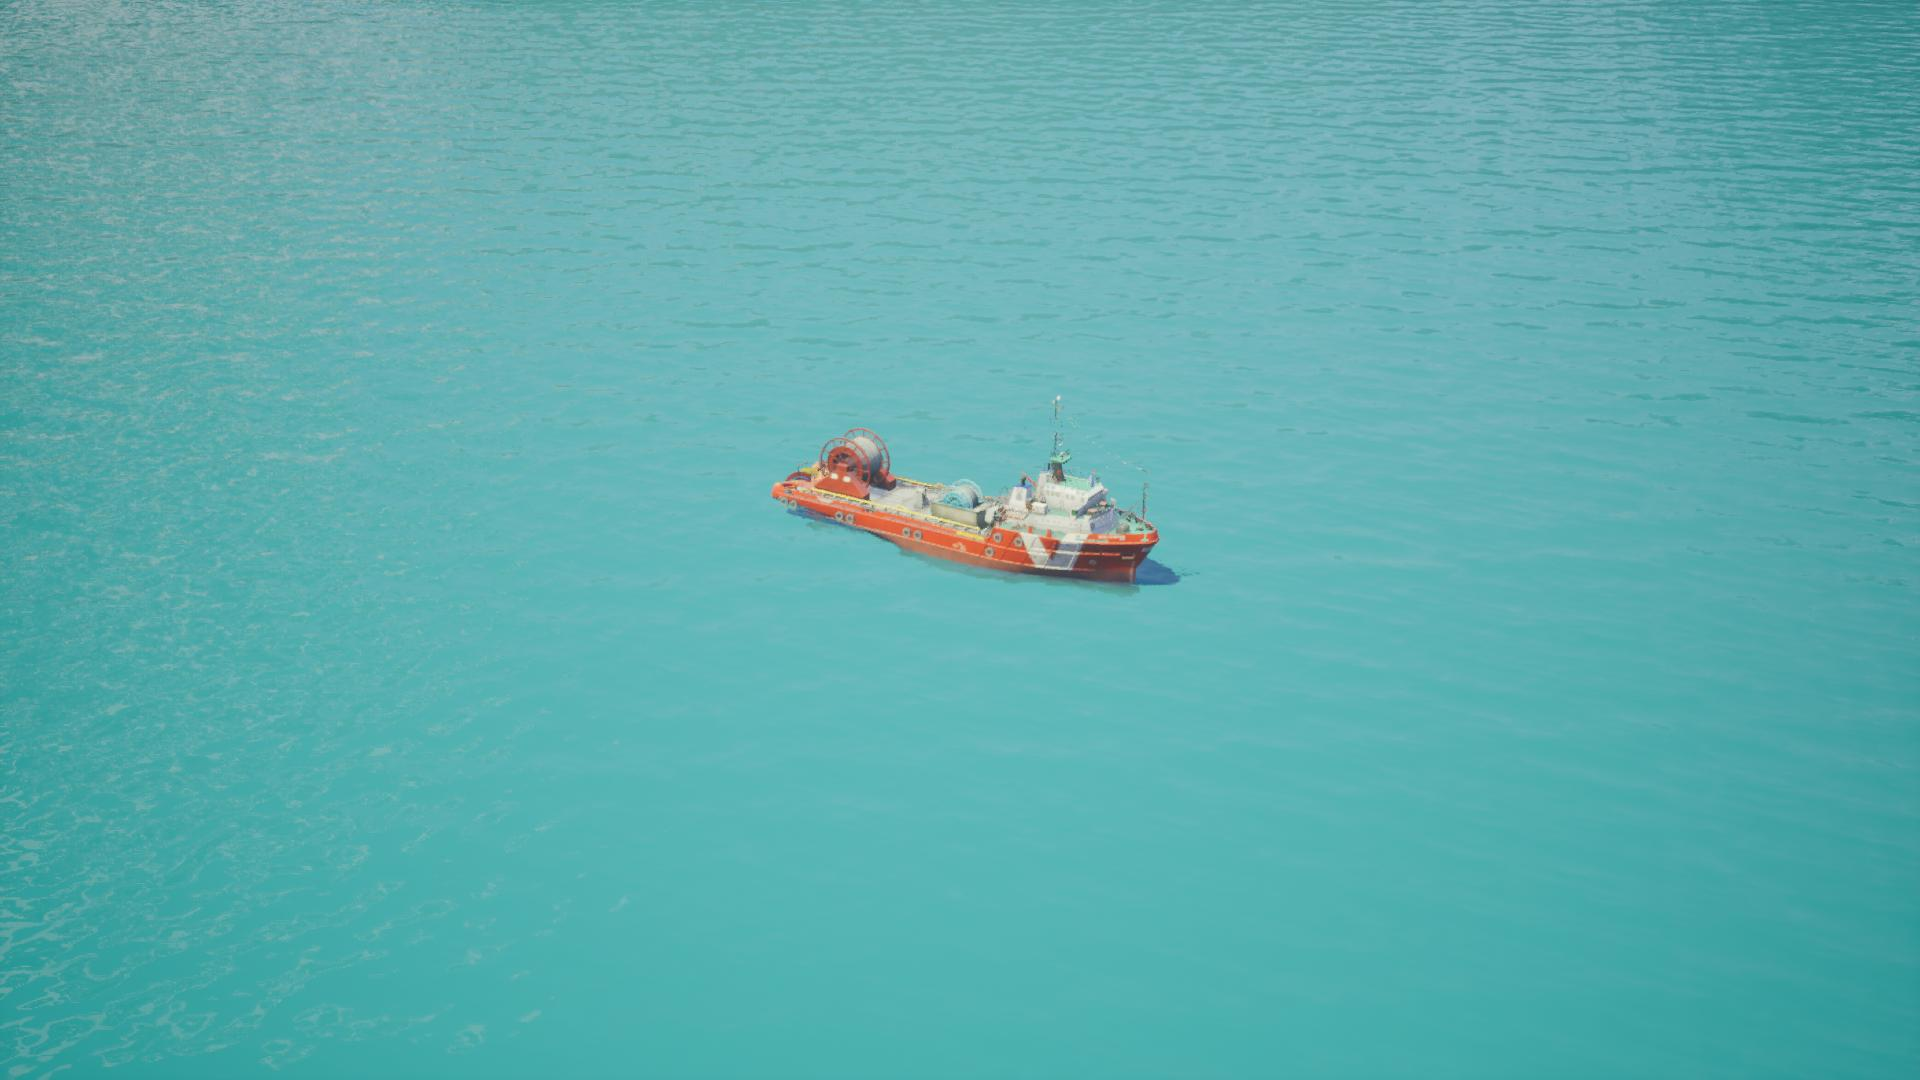Tug Boat: (771, 426, 1167, 589)
